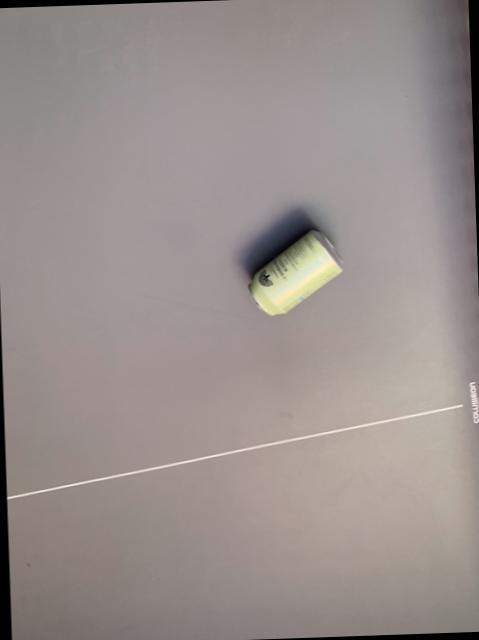metal: (247, 232, 340, 317)
